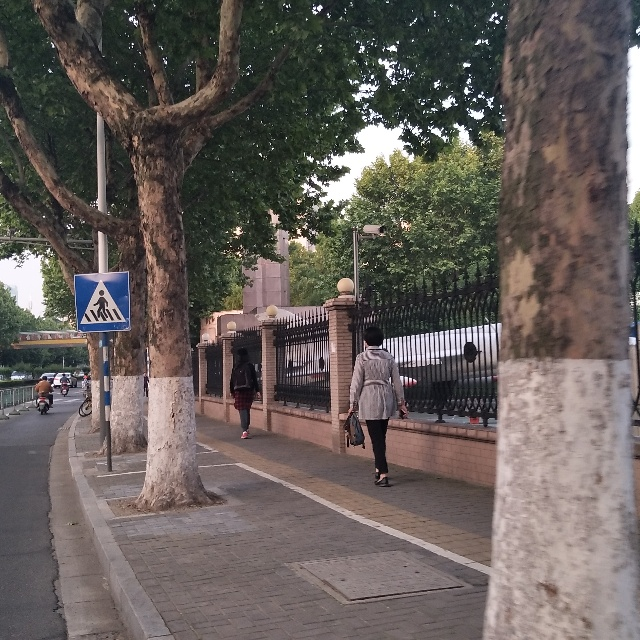crosswalk: (71, 267, 133, 339)
